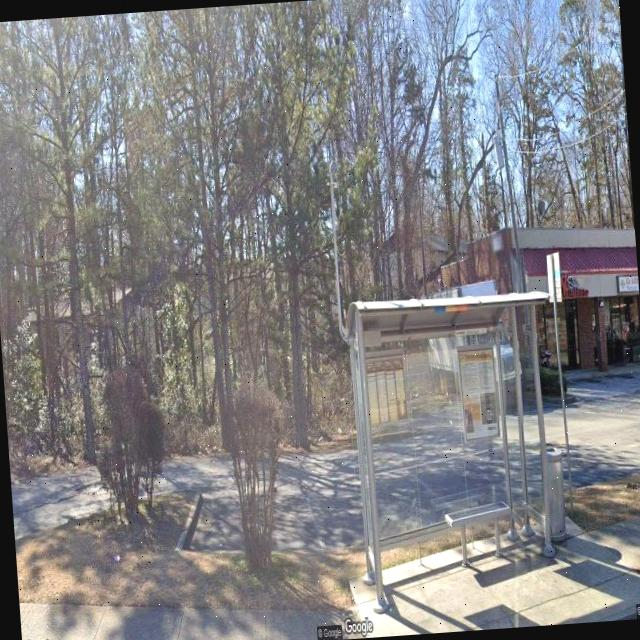seating: (443, 498, 512, 565)
shelter: (343, 286, 572, 606)
trash_can: (538, 442, 568, 544)
